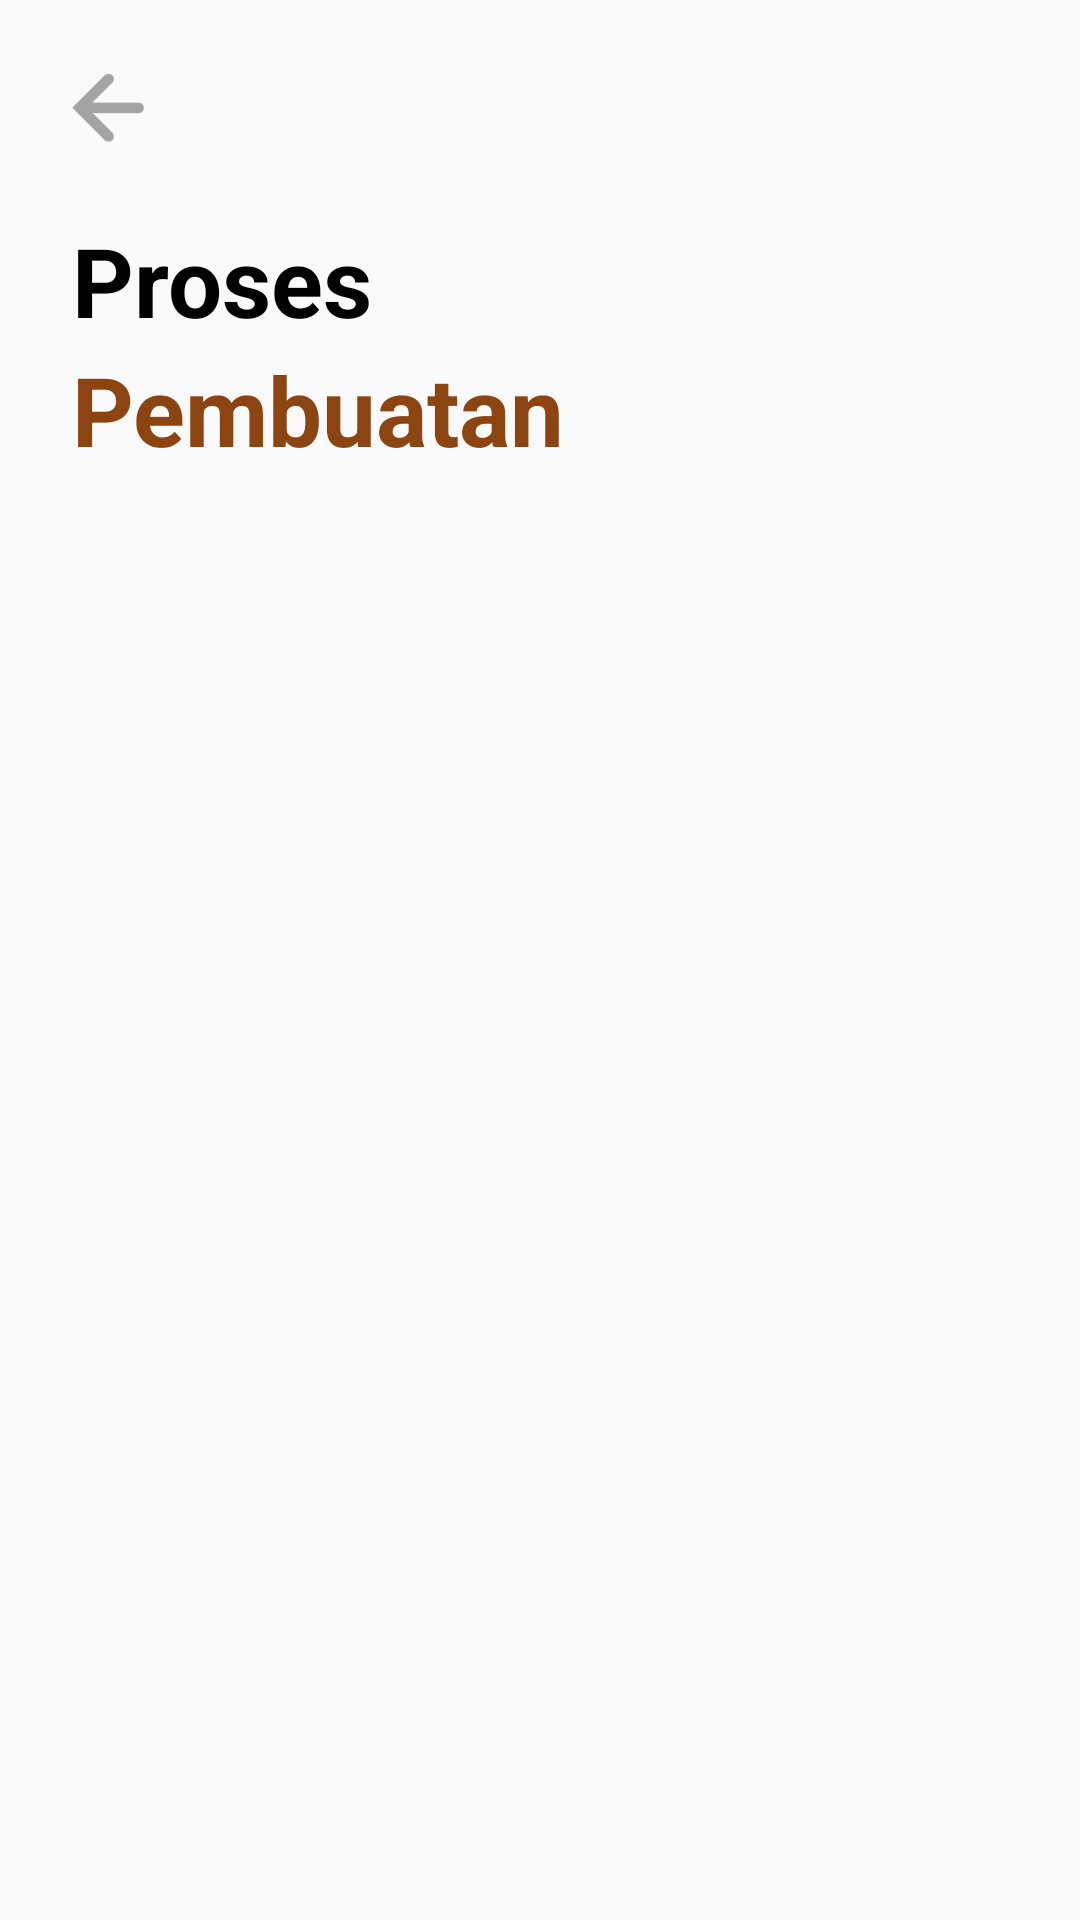

Icons on this 1080x1920 Android screen, each with the point to tap as (x,y):
back: (108,108)
